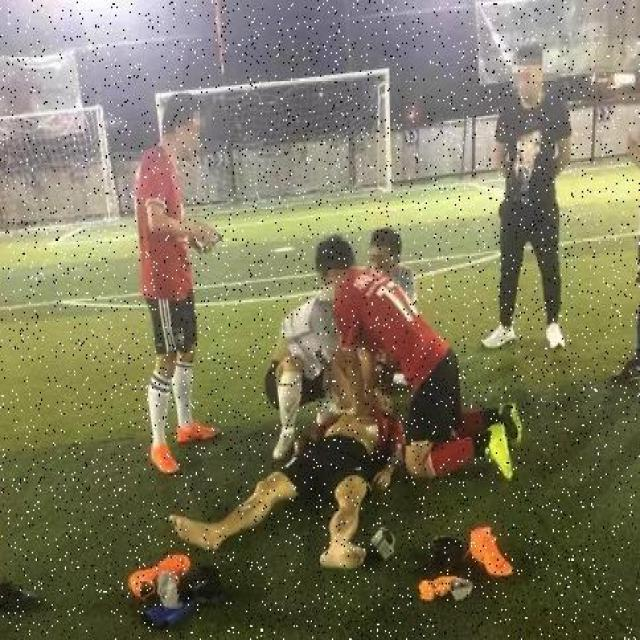fall: (174, 396, 404, 562)
